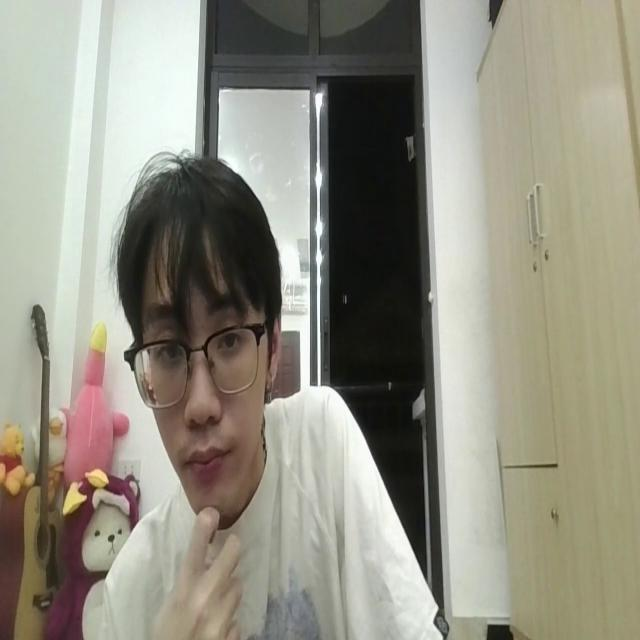student: (83, 135, 457, 640)
